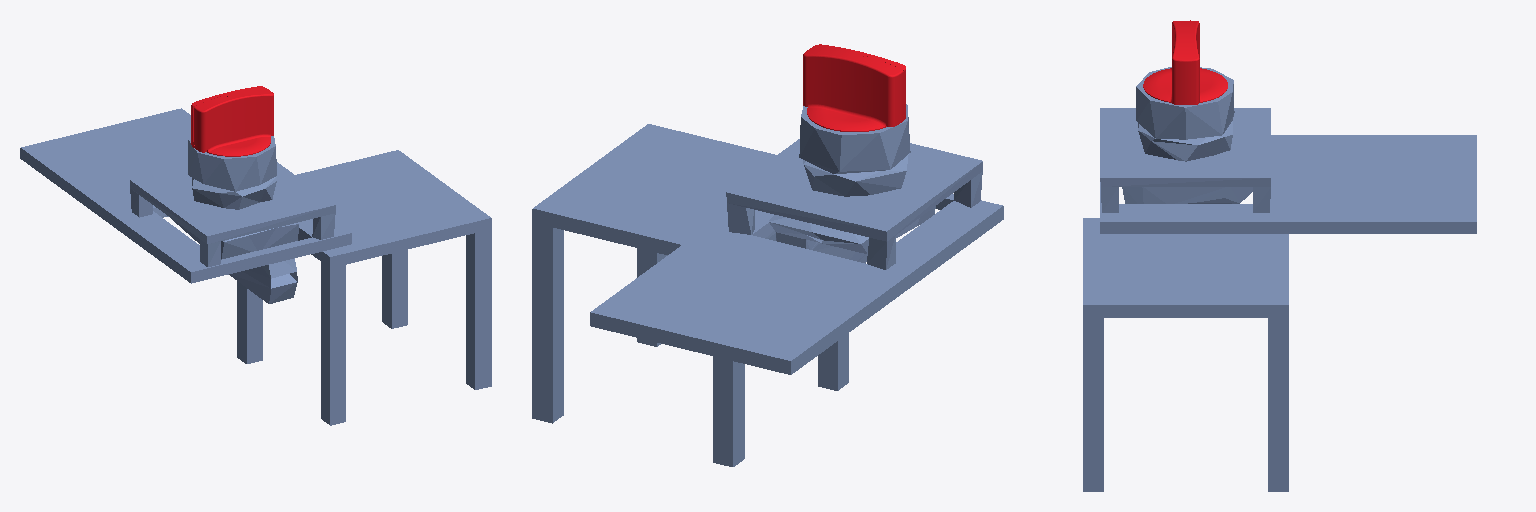
The robot description file, URDF, robot "knob_station":
<?xml version="1.0" encoding="utf-8"?>
<!-- 노브 받침대 (경기장 물체). 좌표는 로봇 시작 위치의 base_link 기준 = world.
     원래 v75 CAD의 base_link 메시 앞쪽 부분과 selector_link 를 떼어 만듦 -->
<robot name="knob_station">
  <material name="stand_slate">
    <color rgba="0.55 0.63 0.78 1" />
  </material>
  <material name="knob_red">
    <color rgba="0.95 0.15 0.20 1" />
  </material>
  <link name="station_base">
    <visual name="station_stand">
      <origin xyz="0 0 0" rpy="0 0 0" />
      <geometry>
        <mesh filename="package://v75_robot_description/meshes/knob_station_black.stl" scale="1 1 1" />
      </geometry>
      <material name="stand_slate" />
    </visual>
  </link>
  <link name="knob_link">
    <visual name="knob">
      <!-- 메시의 축 구멍이 관절 원점에 오도록 이동 + 막대가 x축 방향이 되도록 45° 회전 -->
      <origin xyz="-0.0636396 0.0636396 0" rpy="0 0 0.785398" />
      <geometry>
        <mesh filename="package://v75_robot_description/meshes/knob_link_red.stl" scale="1 1 1" />
      </geometry>
      <material name="knob_red" />
    </visual>
  </link>
  <!-- 노브 회전축: 축 구멍 중심 (80, -140, 93.8) mm, 0~90 deg -->
  <joint name="knob_joint" type="revolute">
    <parent link="station_base" />
    <child link="knob_link" />
    <origin xyz="0.08 -0.14 0.0938" rpy="0 0 0" />
    <axis xyz="0 0 1" />
    <limit effort="1" velocity="1" lower="0" upper="1.5707963" />
  </joint>
</robot>

--- Facts derived from the render (not from the file) ---
The picture shows the robot from 3 angles, left to right: view 1: azimuth 30°, elevation 25°; view 2: azimuth 150°, elevation 25°; view 3: azimuth 270°, elevation 25°; orthographic projection.
Robot: knob_station — 2 links, 1 joints (1 revolute); root link station_base; default pose: all joints at 0.
Links seen in each view (by area): view 1: station_base, knob_link; view 2: station_base, knob_link; view 3: station_base, knob_link.
Boxes of the visible links, x1,y1,x2,y2 form: station_base: (20,108,491,425); knob_link: (191,86,273,156); station_base: (532,104,1003,466); knob_link: (803,44,905,131); station_base: (1083,67,1476,491); knob_link: (1143,20,1227,104).
Bounding box of the posed robot: 0.109 × 0.115 × 0.11 m (x, y, z).
2 mesh visuals loaded from 2 distinct referenced files (2 binary STL).
